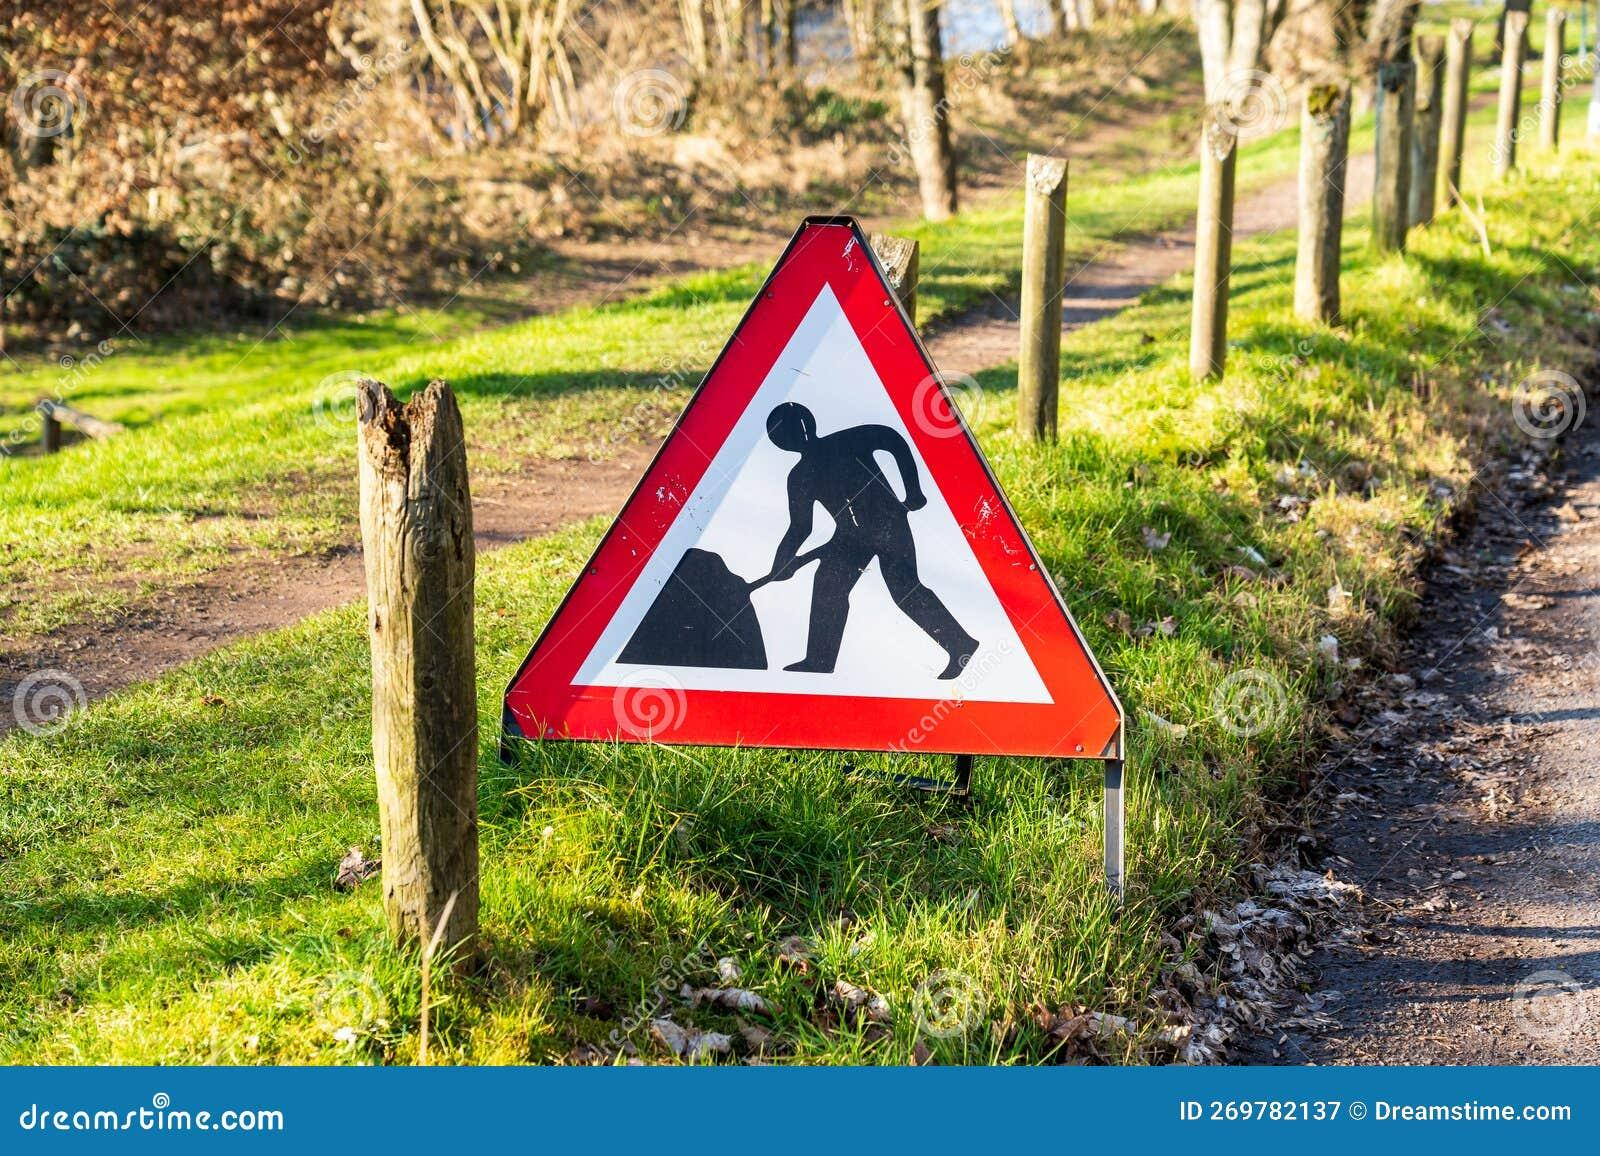road-work: (518, 224, 1123, 764)
